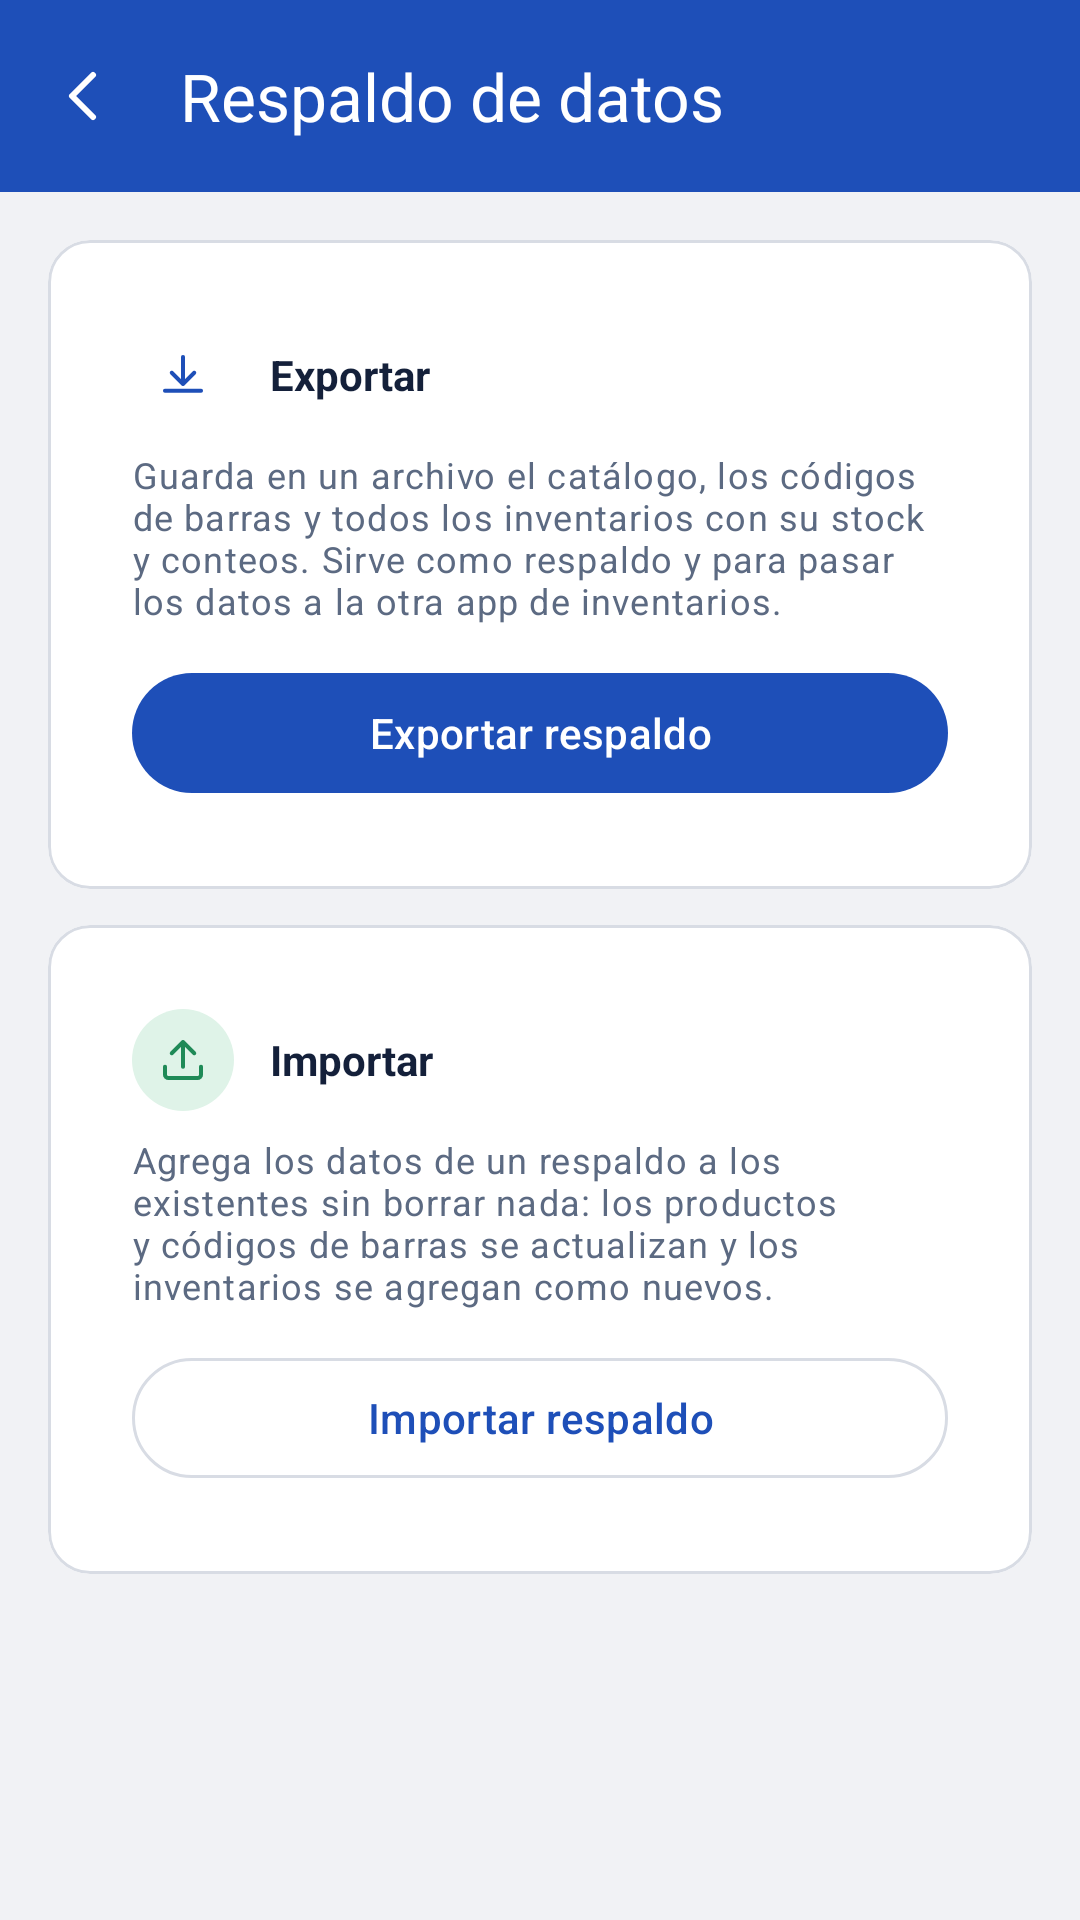

Icons on this 1080px×1920px Android screen, each with its box as (x1, y1, x2, y2):
download: (163, 355, 203, 393)
upload: (132, 1009, 234, 1111)
